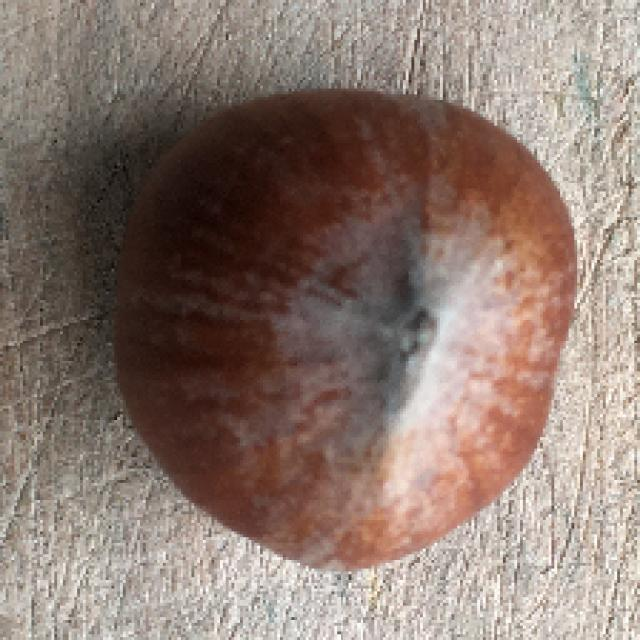qualityHazelnut: (110, 85, 584, 578)
